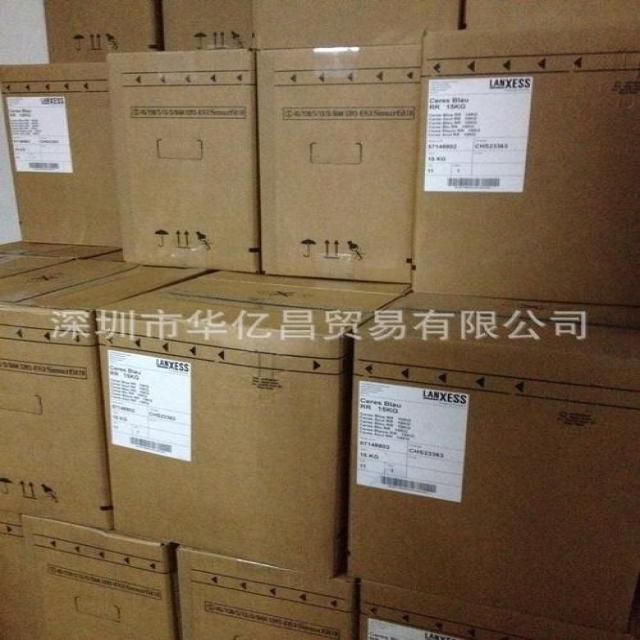box: (346, 291, 639, 636), (96, 270, 408, 577), (0, 241, 219, 534), (411, 28, 639, 306), (253, 43, 424, 283), (108, 50, 259, 274), (25, 516, 175, 639), (168, 547, 353, 639), (356, 579, 628, 638), (254, 1, 465, 49), (42, 1, 162, 63), (466, 1, 639, 28), (161, 1, 254, 51), (0, 510, 33, 639)
